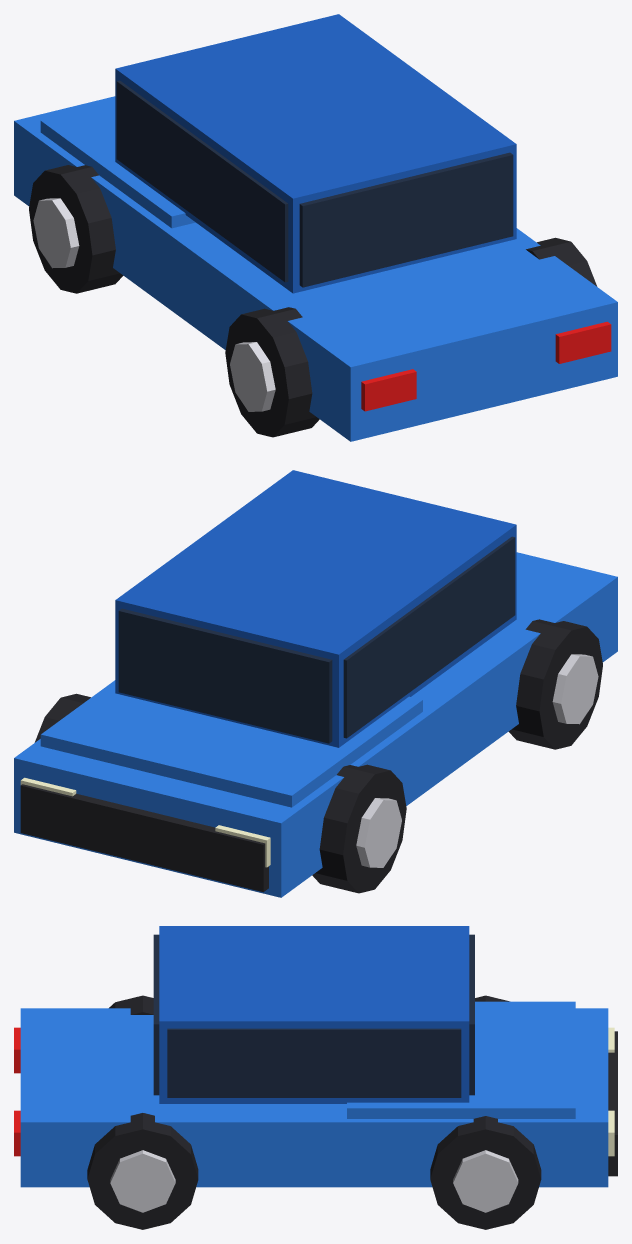
Rendered from car.obj.
3 views of the same model, one above another, from view 1: azimuth 30°, elevation 25°; view 2: azimuth 150°, elevation 25°; view 3: azimuth 270°, elevation 25° (orthographic). The views are drawn at different scales.
Size of the model in its own units: 2.05 by 1.28 by 3.7.
